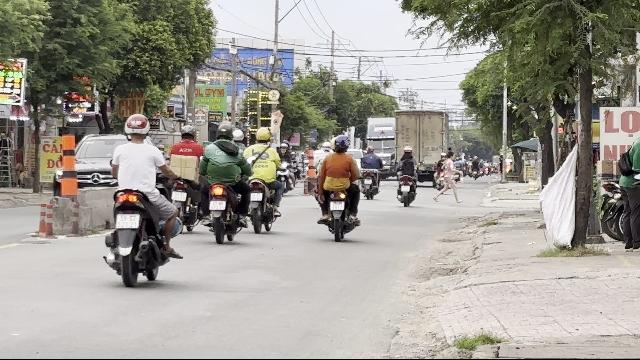helmet: (122, 113, 150, 141), (215, 120, 233, 140), (332, 134, 350, 152), (180, 124, 197, 140)
licenseplate: (116, 214, 140, 229), (209, 200, 225, 210), (172, 191, 186, 201), (331, 201, 344, 211)
motorcyclist: (101, 112, 181, 286), (200, 120, 248, 242), (314, 132, 362, 240), (167, 124, 205, 232)
